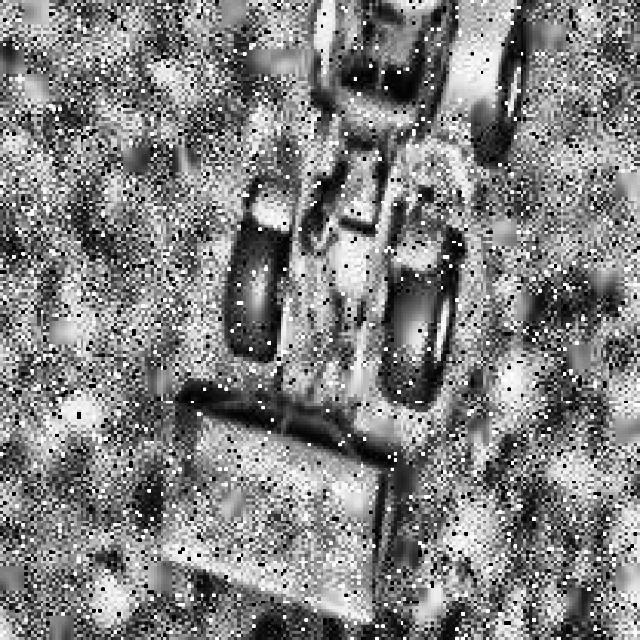buldozerpayloadergrader: (160, 0, 551, 640)
